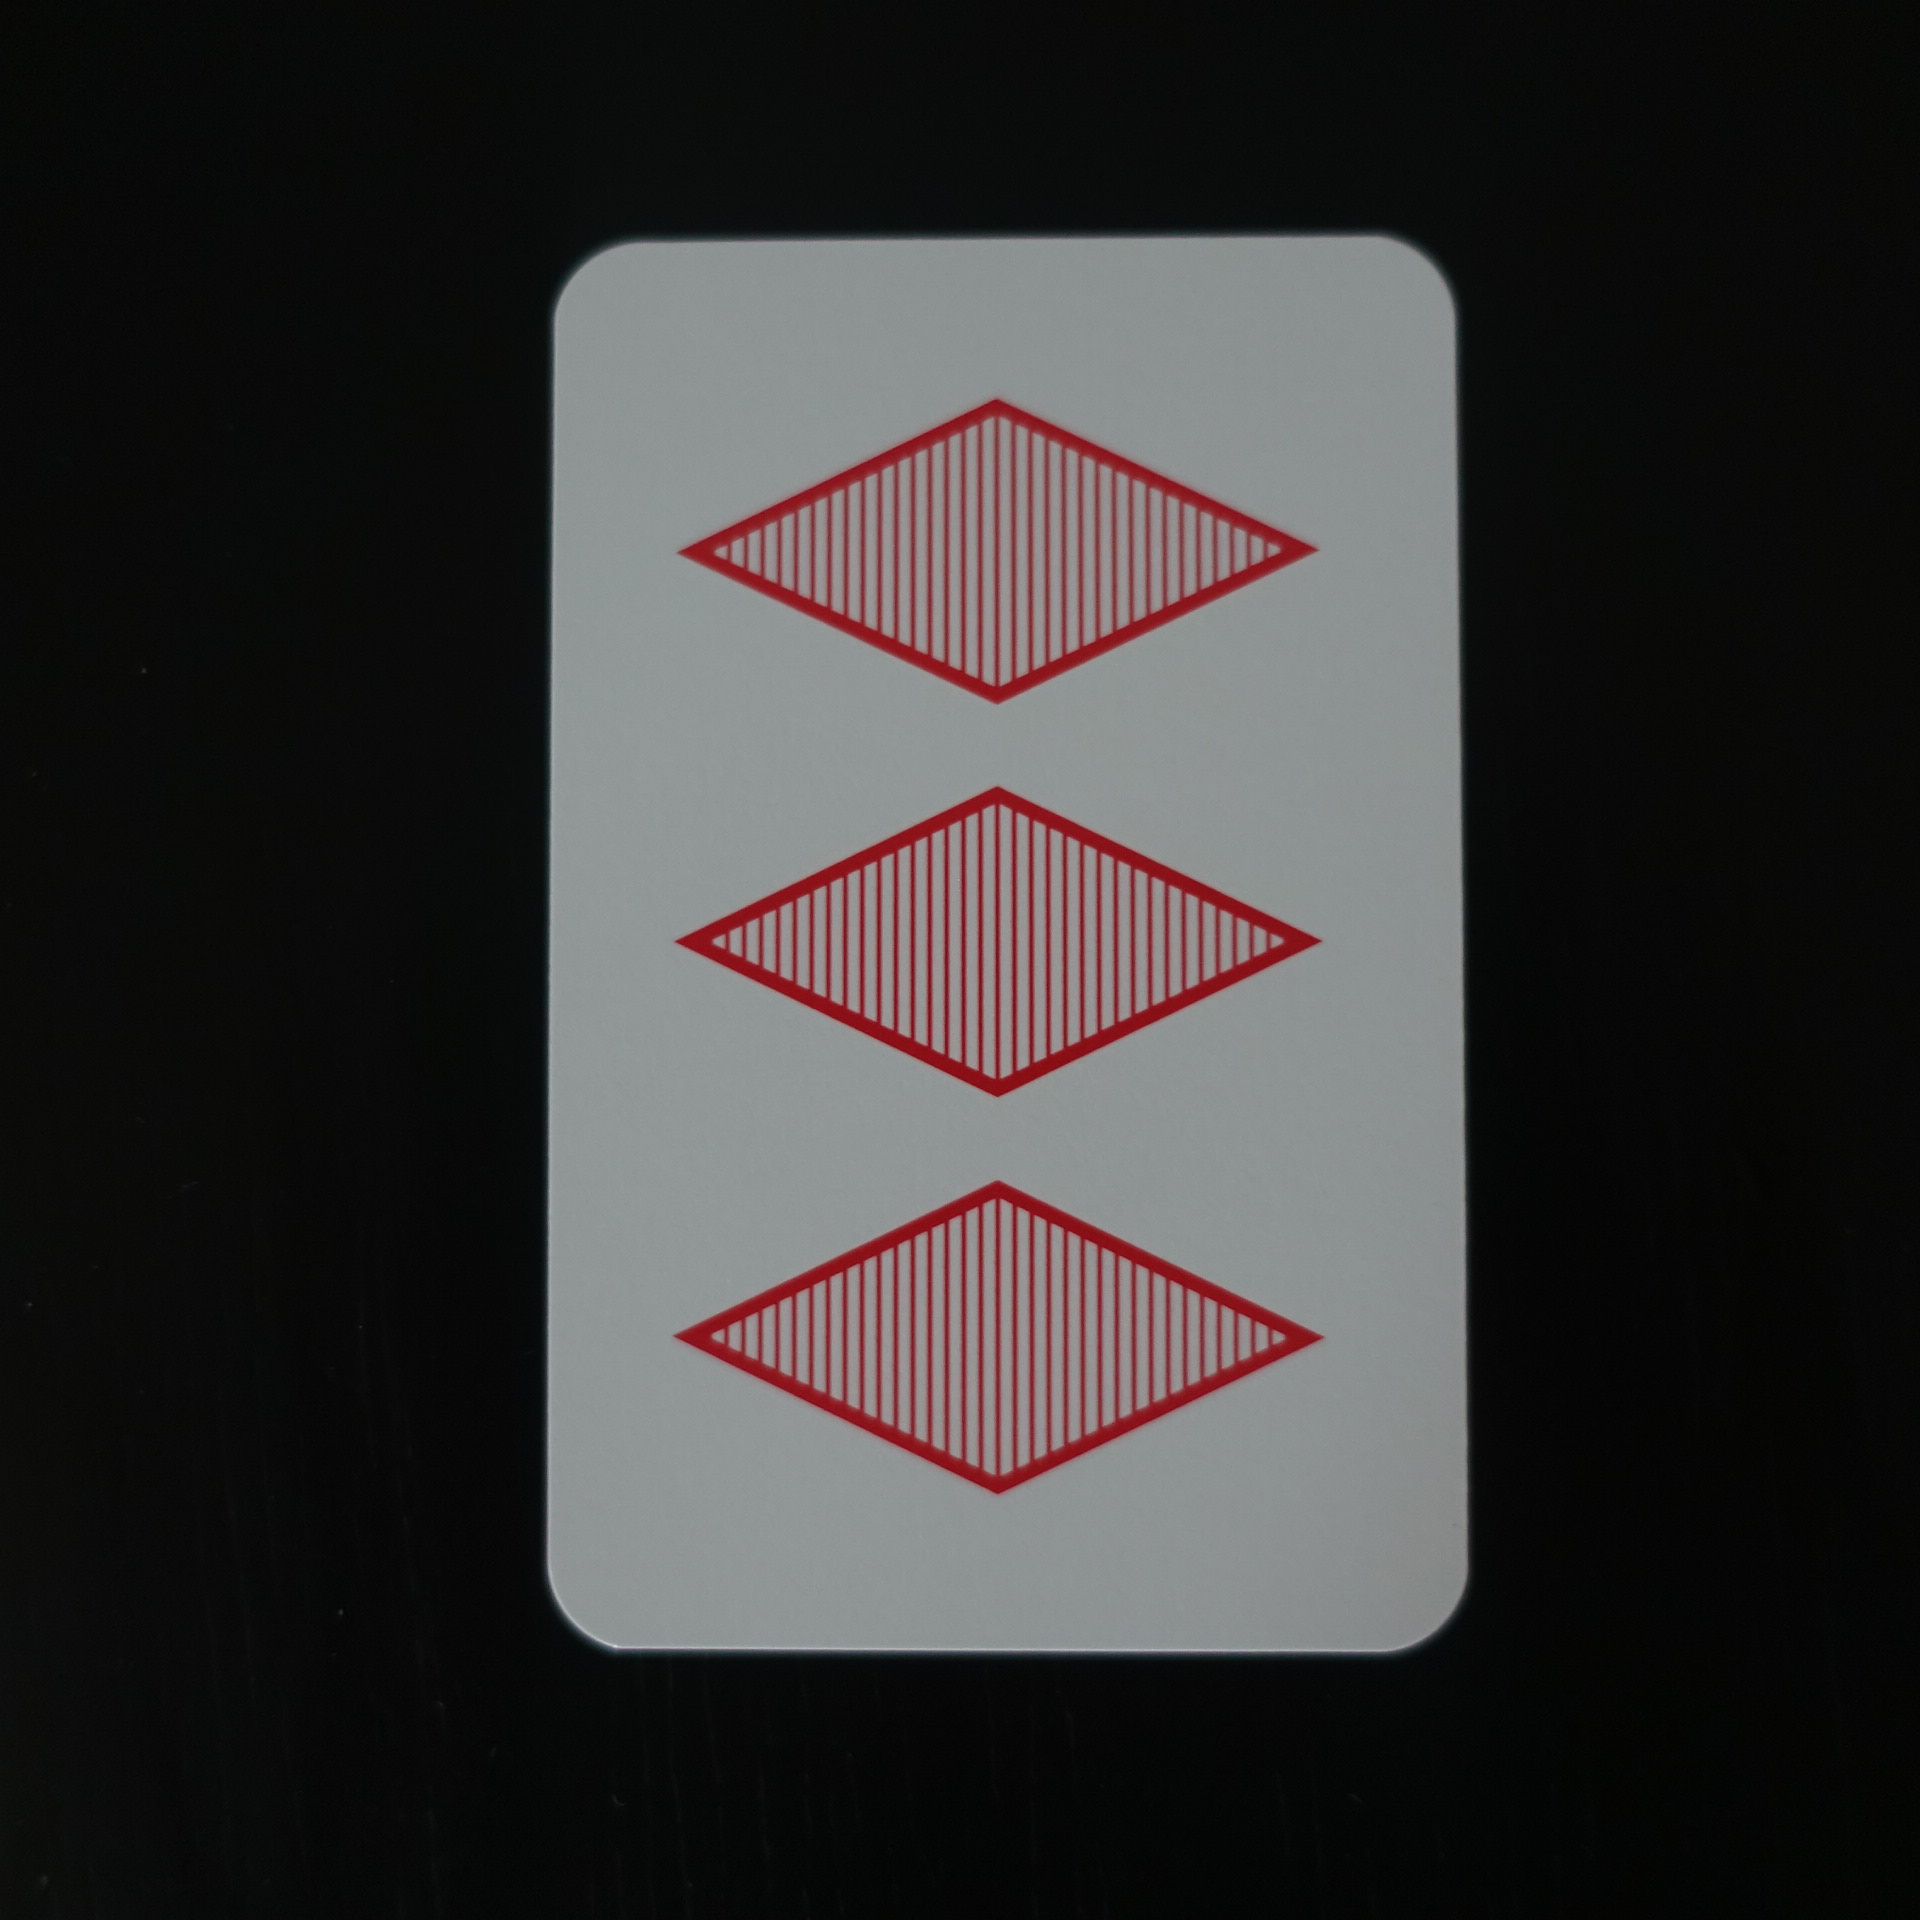c-3-h-d-r: (519, 209, 1505, 1677)
